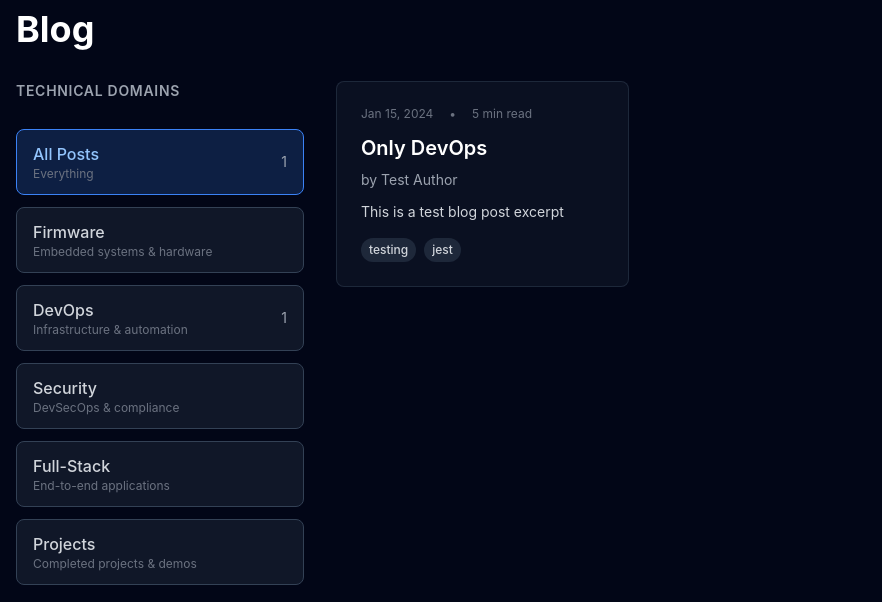
it: BlogLayout Domain Filtering › shows empty state when filtered domain has no posts
Click the button "Security DevSecOps & compliance": [65, 388] box left=16, top=363, right=304, bottom=429
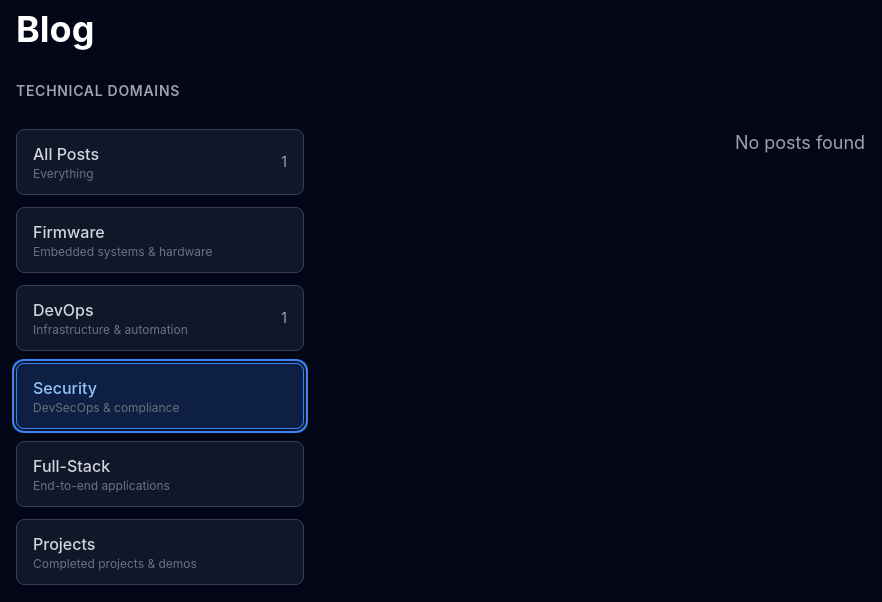
Now the text "No posts found" is shown, box left=735, top=132, right=865, bottom=153
